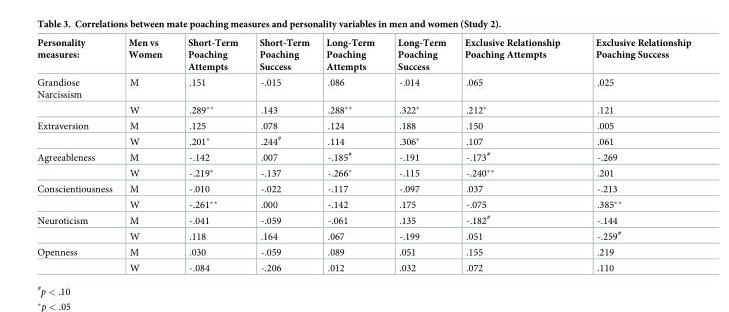table: (36, 37, 690, 272)
table column: (454, 37, 577, 272), (577, 37, 690, 272), (36, 37, 119, 272), (174, 37, 248, 272), (248, 37, 317, 272), (385, 37, 454, 272), (317, 37, 385, 272), (119, 37, 174, 272)
table column header: (36, 37, 690, 74)
table row: (36, 37, 690, 74), (36, 74, 690, 101), (36, 101, 690, 118), (36, 164, 690, 181), (36, 227, 690, 244), (36, 132, 690, 148), (36, 148, 690, 164), (36, 195, 690, 211), (36, 211, 690, 227), (36, 244, 690, 259), (36, 118, 690, 132), (36, 181, 690, 195), (36, 259, 690, 272)
table spanning cell: (36, 74, 119, 118), (36, 148, 119, 181), (36, 211, 119, 244), (36, 118, 119, 148), (36, 181, 119, 211), (36, 244, 119, 272)
